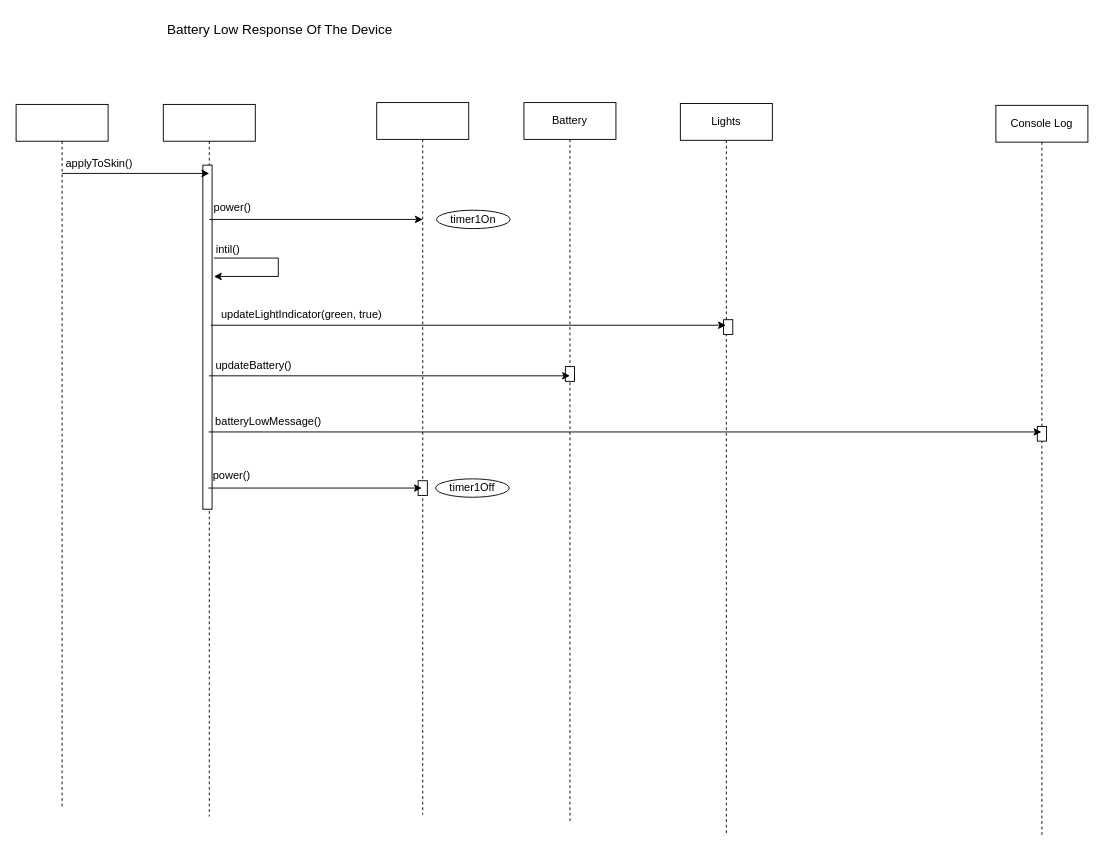
This 1104x852 diagram has some shape labels left out. The box of each missing label's shape, as (x1, y1, x2, y2) in pixels:
MainWindow: (162, 104, 255, 816)
Power Button: (376, 102, 469, 815)
User: (15, 104, 108, 807)
